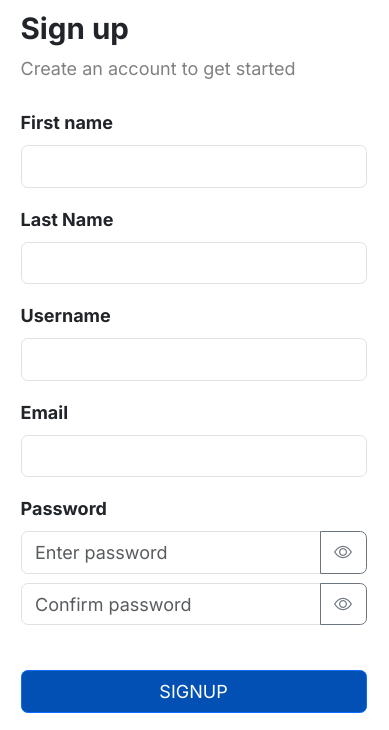
Signup page (Vitest) › shows error when passwords do not match
// Fill in form fields
In the field labelled "First name": (194, 167) [20,146,366,188], type "John"
In the field labelled "Last Name": (194, 263) [20,242,366,284], type "Doe"
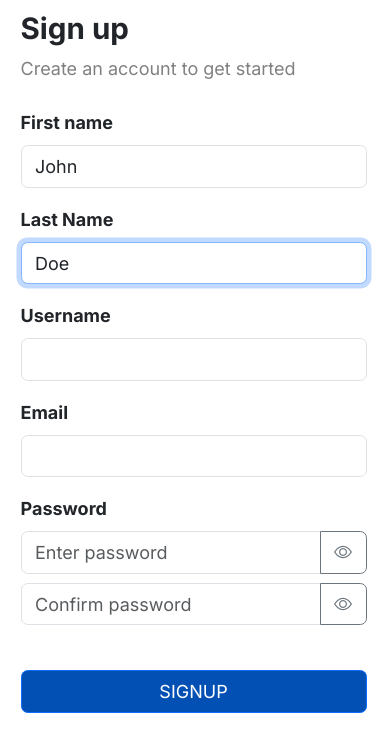
In the field labelled "Username": (194, 360) [20,338,366,381], type "johndoe"
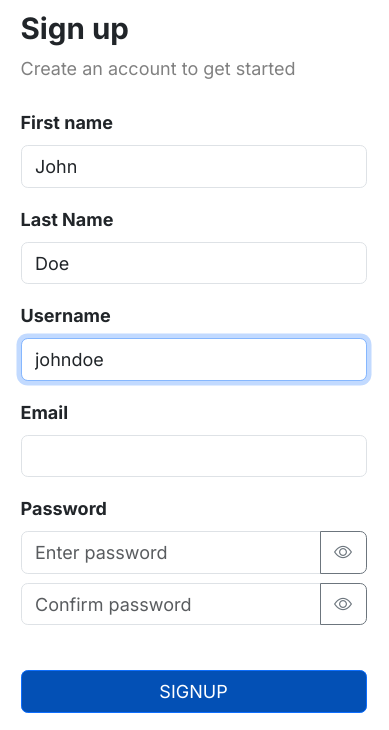
In the field labelled "Email": (194, 456) [20,435,366,478], type "john@example.com"
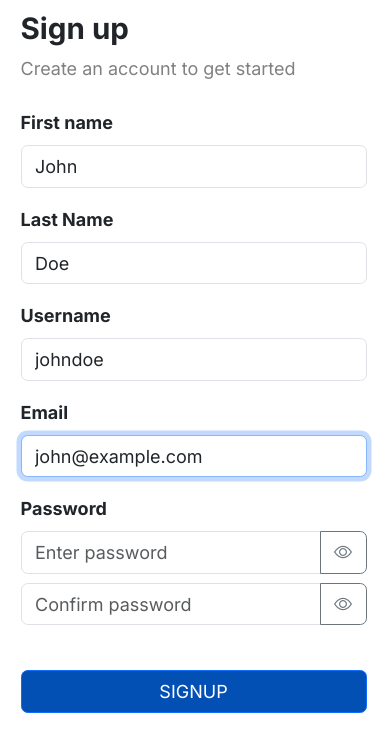
In the password field with placeholder "Enter password": (170, 553) [20,532,320,574], type "password123"
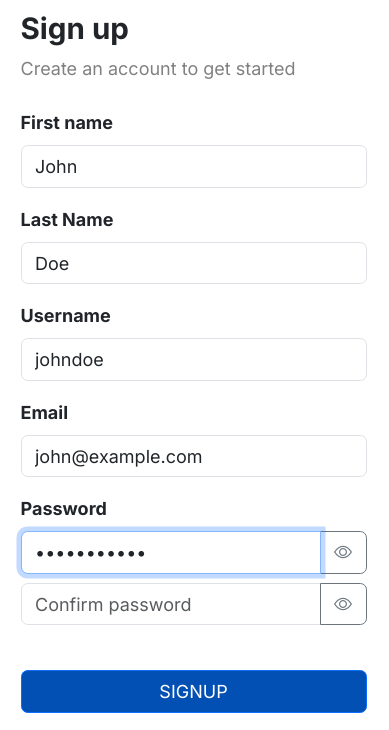
In the password field with placeholder "Confirm password": (170, 604) [20,583,320,626], type "differentpassword"
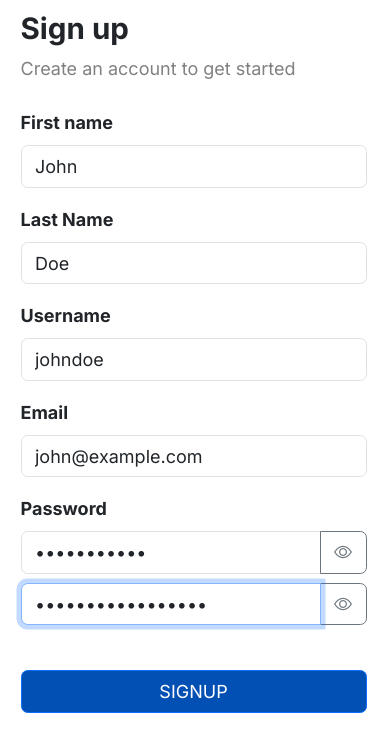
// Submit form
Click the button "SIGNUP": (194, 692) [20,670,366,713]
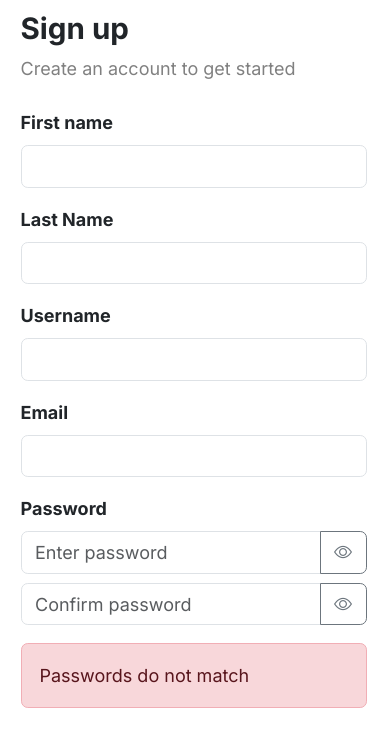
Expected: the text "Passwords do not match" is shown, [20,644,366,708]
